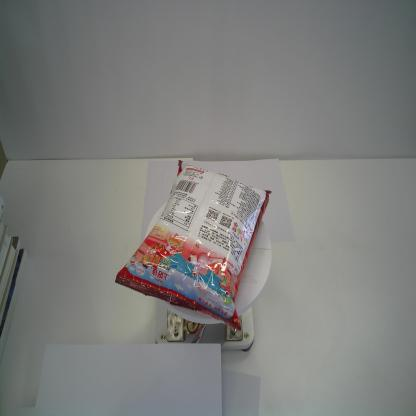Puffed Food: (114, 158, 271, 333)
